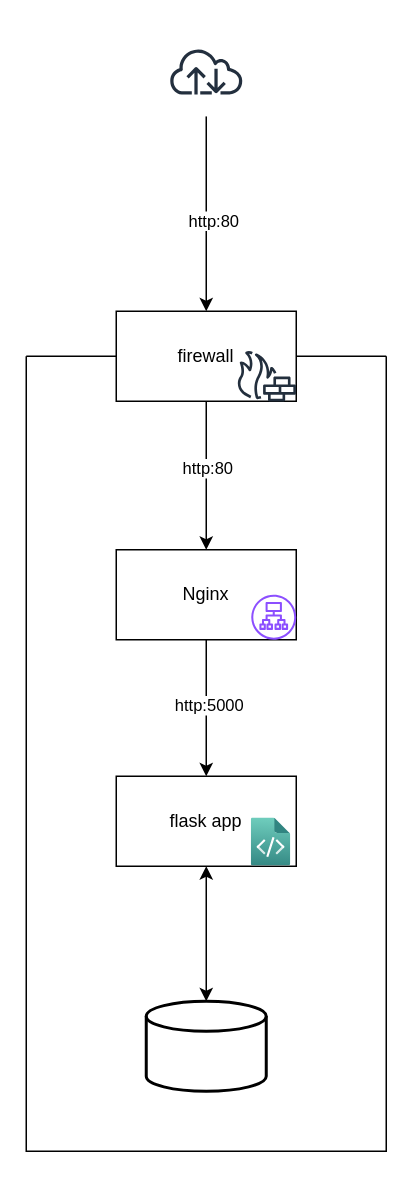
Image size: 413x1178. Some labels were removed from this diagram. Each missing label, with the centre of its shape:
"database.db" belongs at pixel 205 1045.
"Internet" belongs at pixel 205 70.
